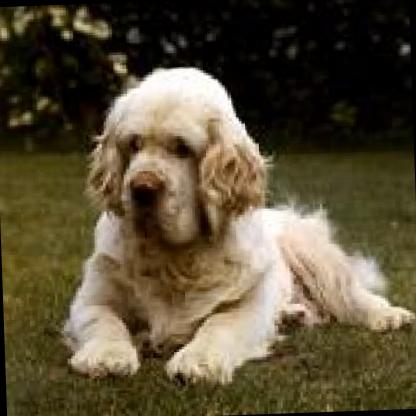clumber: (49, 53, 412, 390)
